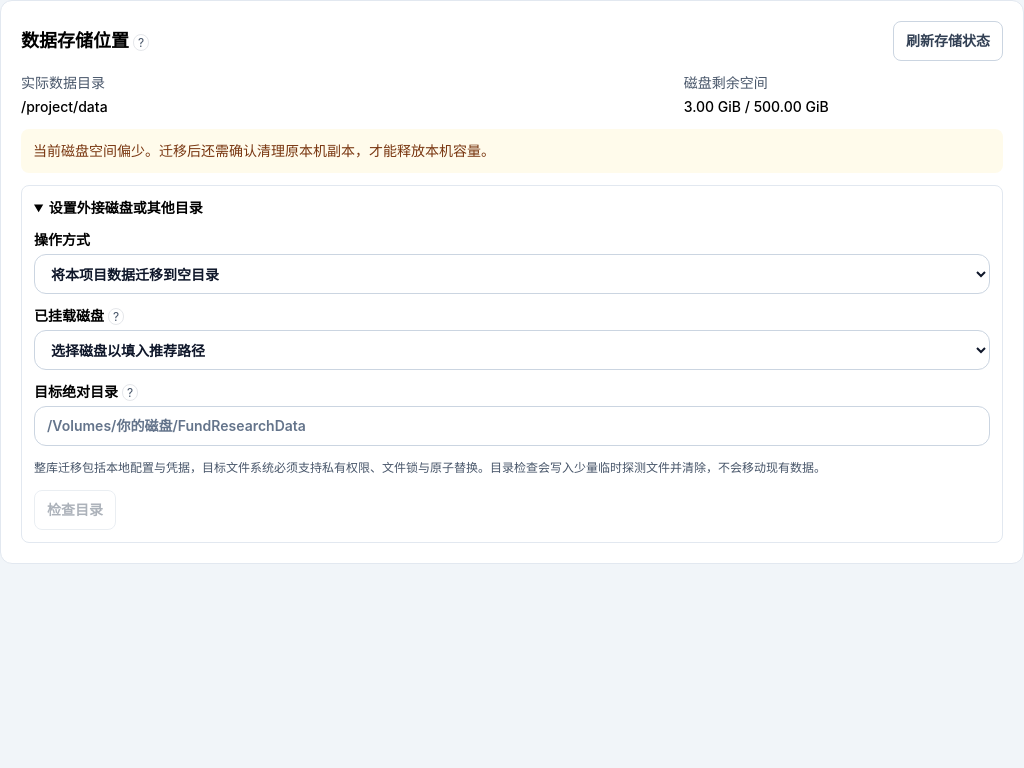
接入失败明确显示错误，不显示成功或删除本机副本入口
Check: the text "/project/data" is shown, box [21, 98, 108, 115]
Step 1. Select "研究磁盘 · 剩余 100.00 GiB" in the dropdown labelled "已挂载磁盘" → (512, 350), box [34, 330, 990, 370]
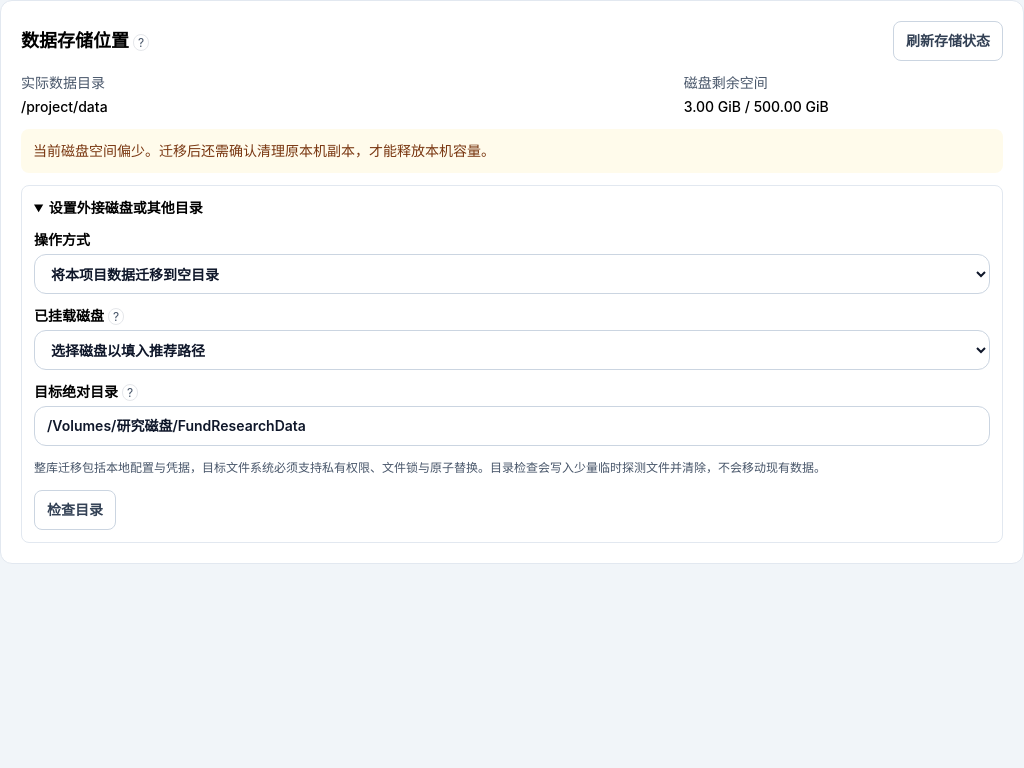
Step 2. Select "使用已有数据目录（不复制）" in the dropdown named "存储操作方式" → (512, 274), box [34, 254, 990, 294]
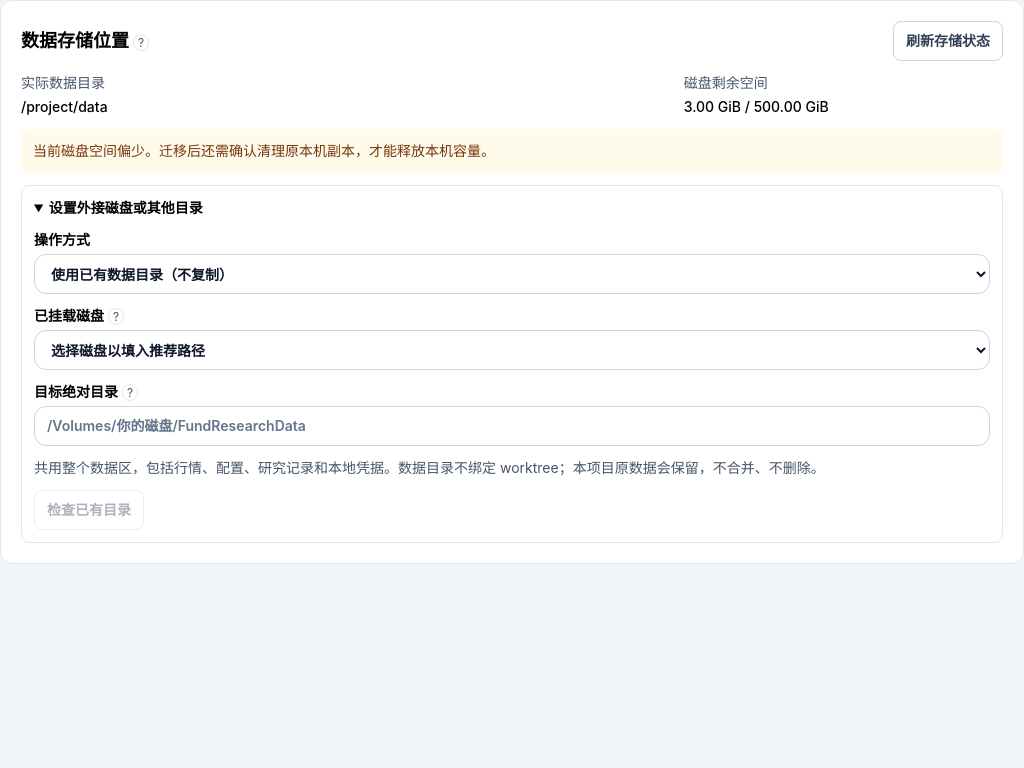
Step 3. Type "/Volumes/研究磁盘/FundResearchData" into the field labelled "目标绝对目录" → (512, 426), box [34, 406, 990, 446]
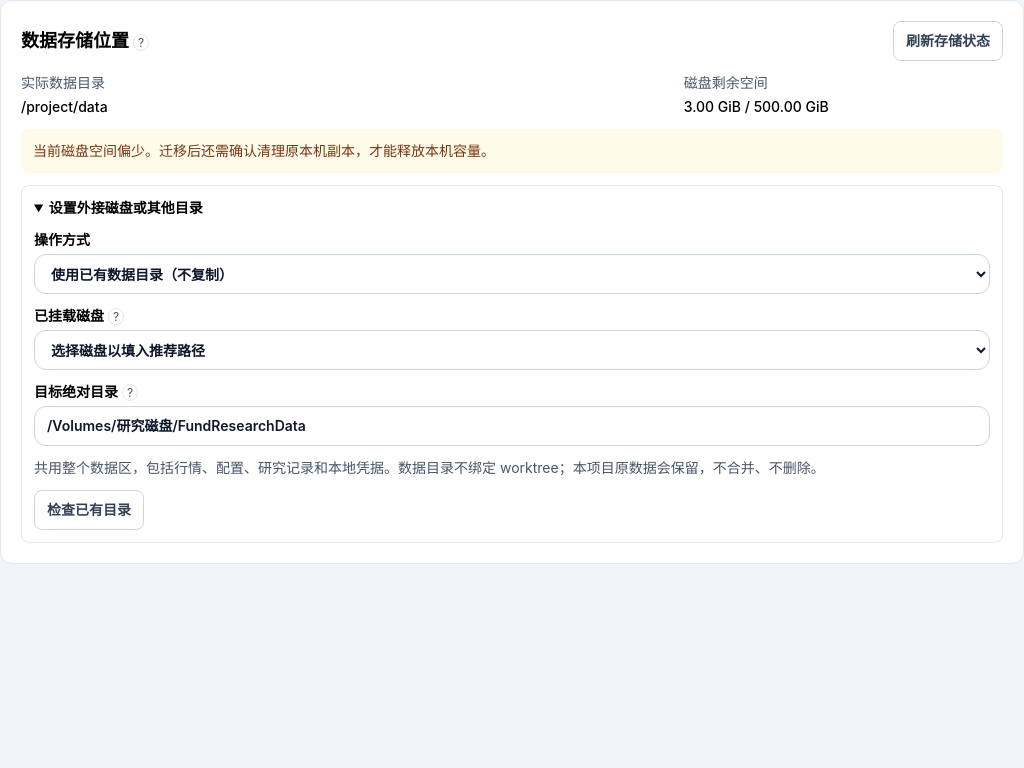
Step 4. Click the button "检查已有目录" → (89, 510), box [34, 490, 144, 530]
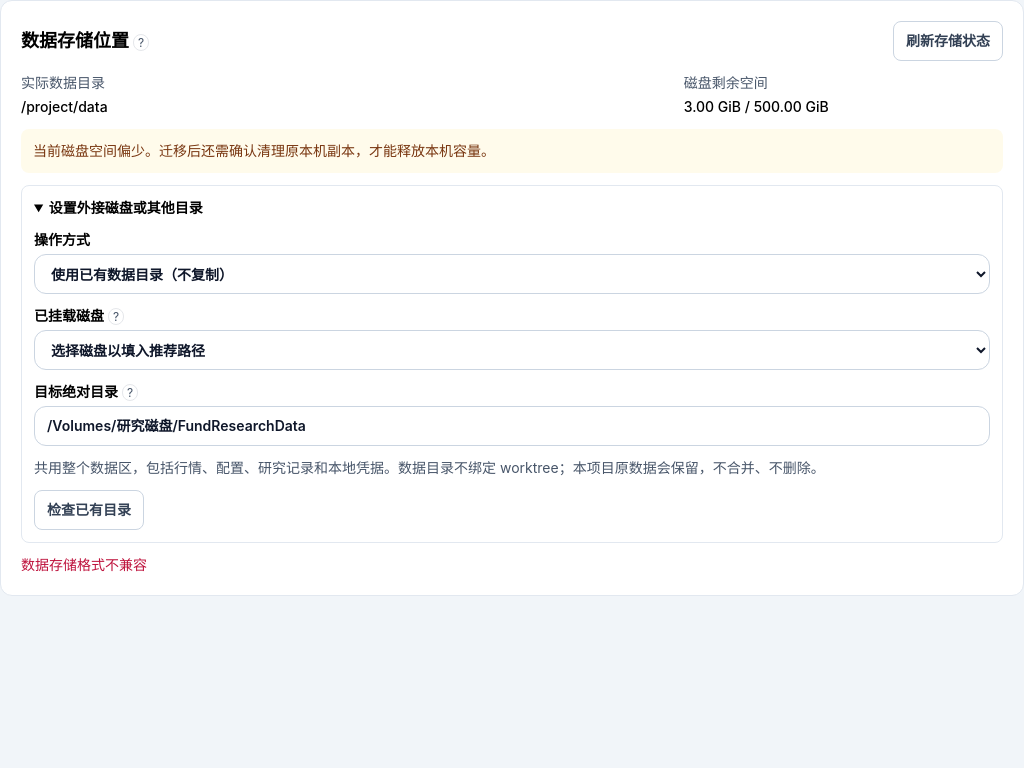
Check: the message reads "数据存储格式不兼容", box [21, 556, 147, 573]
